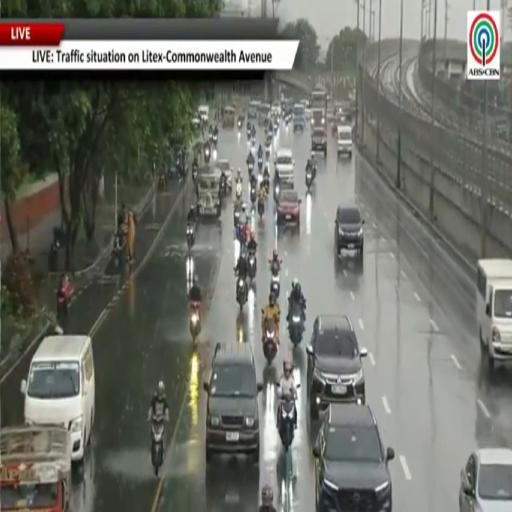bus: (310, 88, 327, 113)
car: (313, 405, 395, 511), (204, 343, 263, 463), (306, 315, 367, 420), (459, 447, 511, 511), (334, 204, 364, 257), (277, 187, 301, 226), (274, 149, 294, 187), (336, 124, 352, 157), (216, 159, 232, 188), (312, 126, 327, 155), (248, 101, 260, 119), (198, 105, 209, 124)
jeepney: (0, 425, 71, 511), (197, 167, 221, 217), (258, 103, 270, 125), (223, 106, 235, 127)
motorcycle: (279, 395, 295, 453), (151, 416, 164, 476), (288, 302, 304, 346), (264, 319, 278, 364), (57, 282, 71, 325), (112, 231, 125, 268), (189, 302, 200, 342), (269, 261, 279, 298), (237, 278, 247, 310), (248, 252, 256, 281), (271, 271, 279, 298), (236, 223, 245, 246), (187, 223, 194, 251), (250, 186, 258, 207), (220, 176, 227, 198), (158, 172, 166, 190), (203, 146, 211, 164), (234, 207, 240, 229), (258, 198, 264, 219), (306, 168, 312, 189), (236, 181, 242, 200), (274, 182, 279, 202), (192, 166, 197, 183), (212, 133, 218, 147), (258, 156, 263, 171), (248, 162, 254, 174), (265, 146, 270, 159), (274, 121, 278, 134), (247, 128, 251, 141), (237, 120, 242, 130), (209, 132, 213, 143), (252, 133, 255, 146)
truck: (310, 88, 327, 127), (311, 109, 326, 129)
